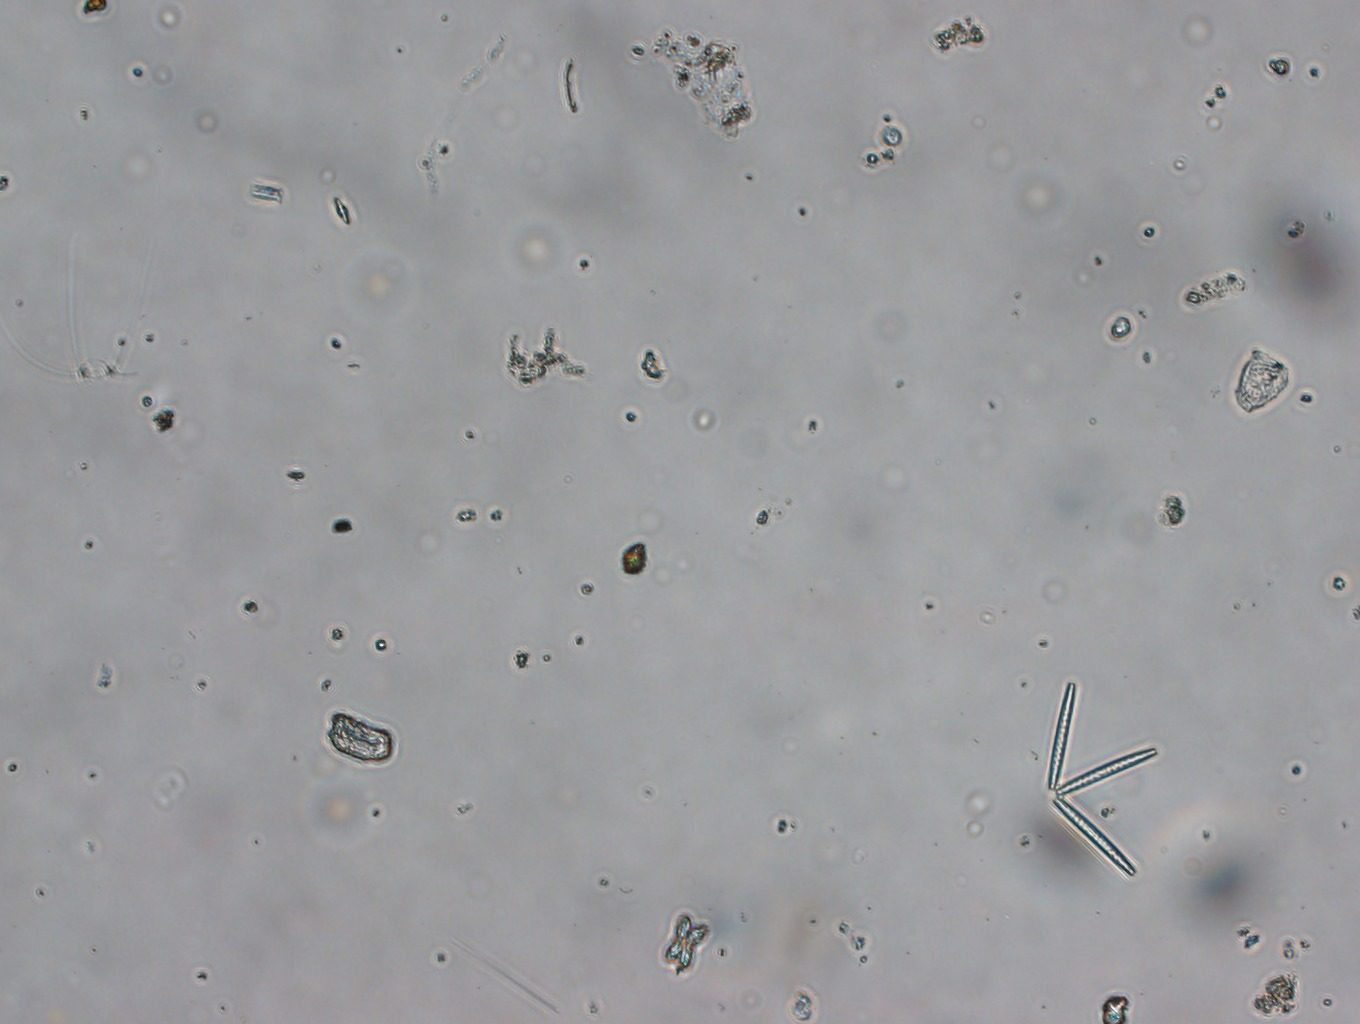thalassionema frauenfeldii: (1034, 681, 1165, 891)
